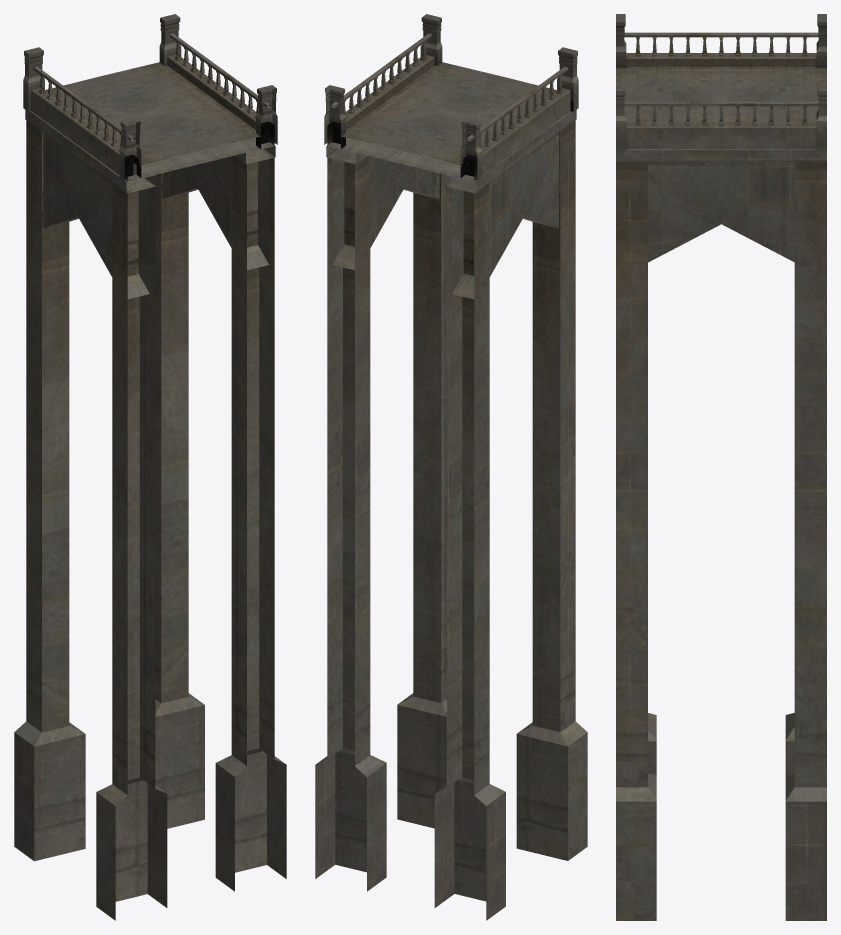
The model's file is Bridge.fbx.
3 renders of one model, left to right at view 1: azimuth 30°, elevation 25°; view 2: azimuth 150°, elevation 25°; view 3: azimuth 270°, elevation 25°, orthographic. The views are drawn at different scales.
Parts seen in each view (by area): view 1: Cube.001, Bridge, Bridge_Pillers; view 2: Cube.001, Bridge, Bridge_Pillers; view 3: Cube.001, Bridge, Bridge_Pillers.
Part boxes in pixels (x1=…): Cube.001: x1=14, y1=110, x2=286, y2=920; Bridge: x1=23, y1=14, x2=277, y2=181; Bridge_Pillers: x1=33, y1=33, x2=270, y2=151; Cube.001: x1=315, y1=110, x2=587, y2=920; Bridge: x1=324, y1=14, x2=578, y2=181; Bridge_Pillers: x1=331, y1=33, x2=568, y2=151; Cube.001: x1=616, y1=149, x2=826, y2=920; Bridge: x1=616, y1=14, x2=826, y2=150; Bridge_Pillers: x1=624, y1=32, x2=818, y2=125.
Size of the model in its own units: 682 by 3027 by 701.
